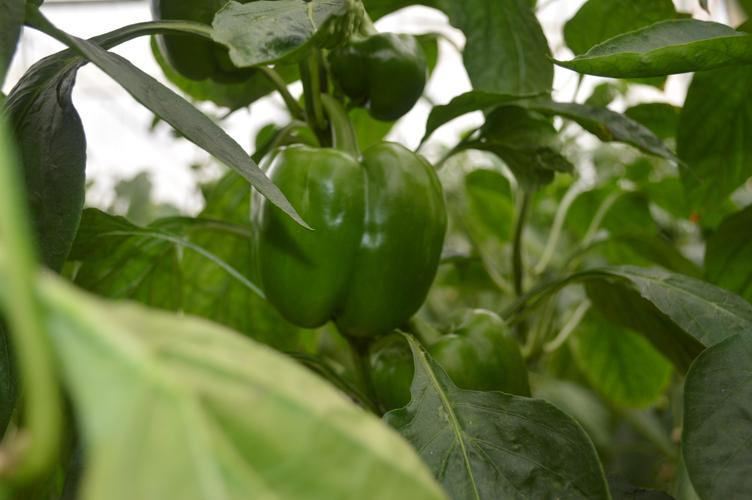BellPepper: (251, 141, 444, 334), (370, 307, 530, 418), (333, 36, 426, 120)
